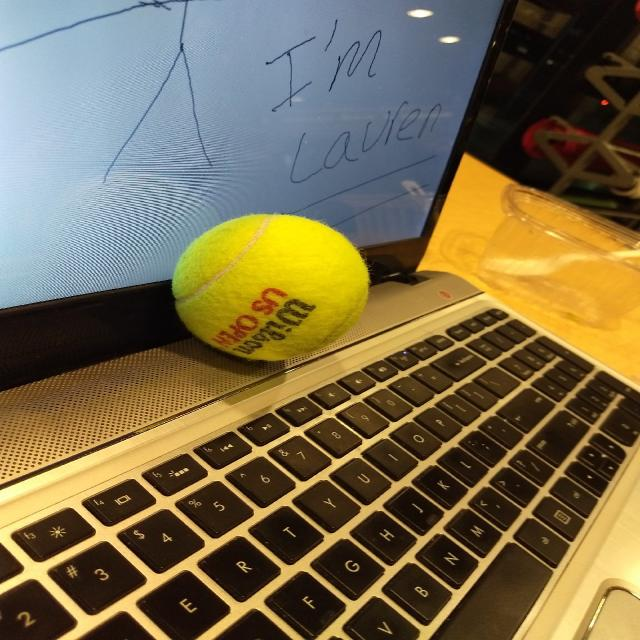Tennis-Ball: (168, 218, 376, 364)
